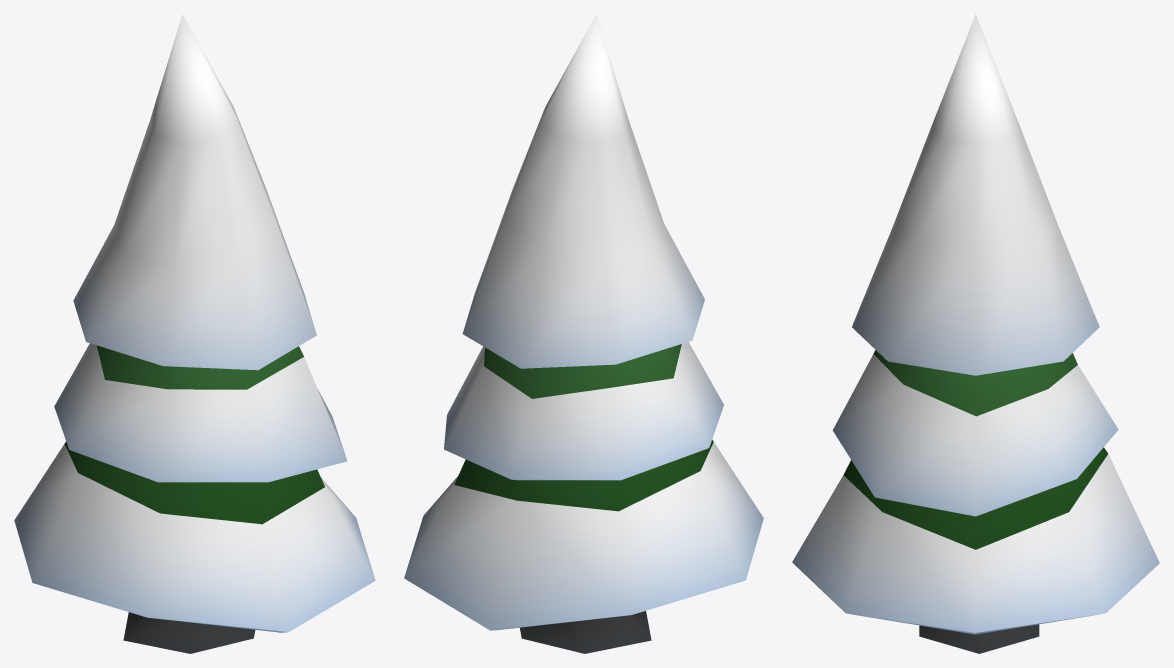
The model's file is deco_winter_treeFirA_snow.FBX.
3 renders of one model, left to right at view 1: azimuth 30°, elevation 25°; view 2: azimuth 150°, elevation 25°; view 3: azimuth 270°, elevation 25°, orthographic.
Visible parts, largest first — view 1: deco_winter_treeFirA_snow; view 2: deco_winter_treeFirA_snow; view 3: deco_winter_treeFirA_snow.
Boxes of the visible parts, x1,y1,x2,y2 form: deco_winter_treeFirA_snow: (14, 14, 375, 653); deco_winter_treeFirA_snow: (404, 14, 763, 653); deco_winter_treeFirA_snow: (792, 14, 1159, 653).
Size of the model in its own units: 3.05 by 5.53 by 3.06.
Materials: 1 (1 with a texture image).
